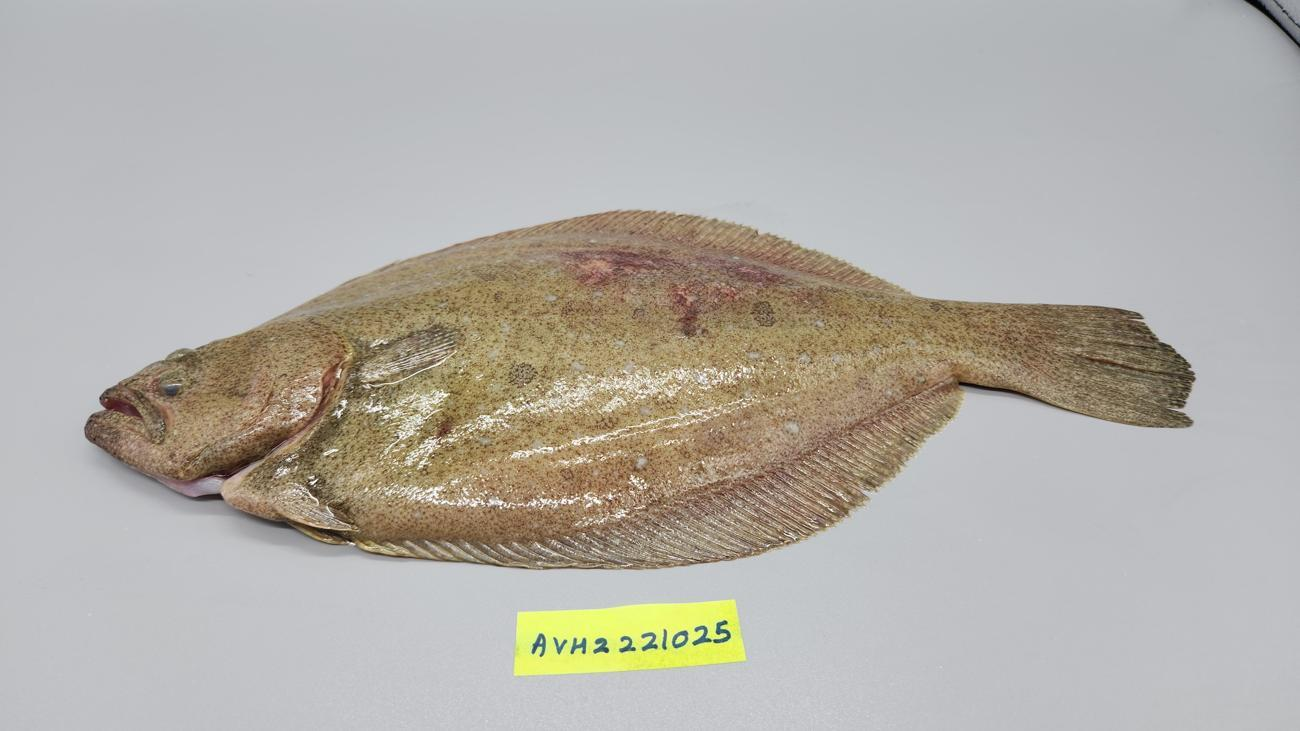VIDYH: (537, 242, 785, 342), (964, 309, 1065, 377), (784, 286, 824, 306)
VIDYU: (539, 248, 679, 291), (430, 412, 464, 439)
VIOUY: (78, 211, 1196, 565)
